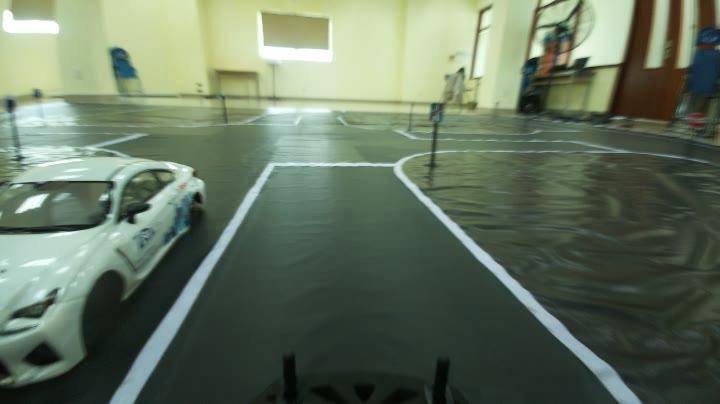car: (2, 110, 204, 392)
highway_exit: (427, 96, 448, 129)
